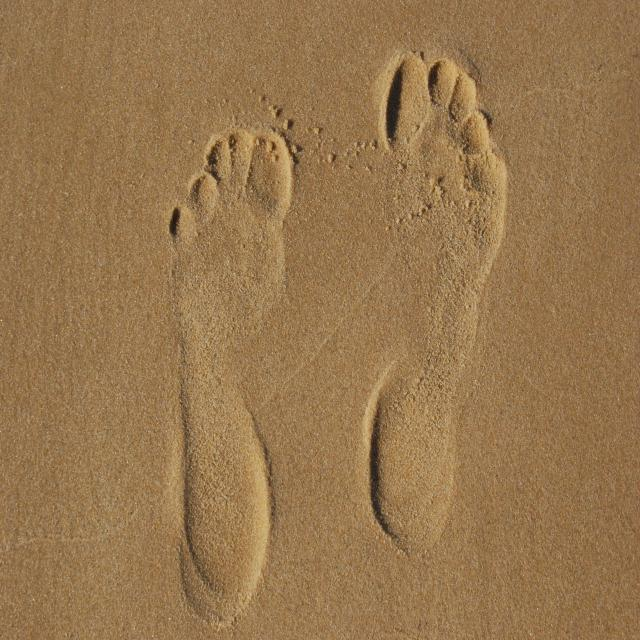human_foot_print: (161, 43, 512, 629)
